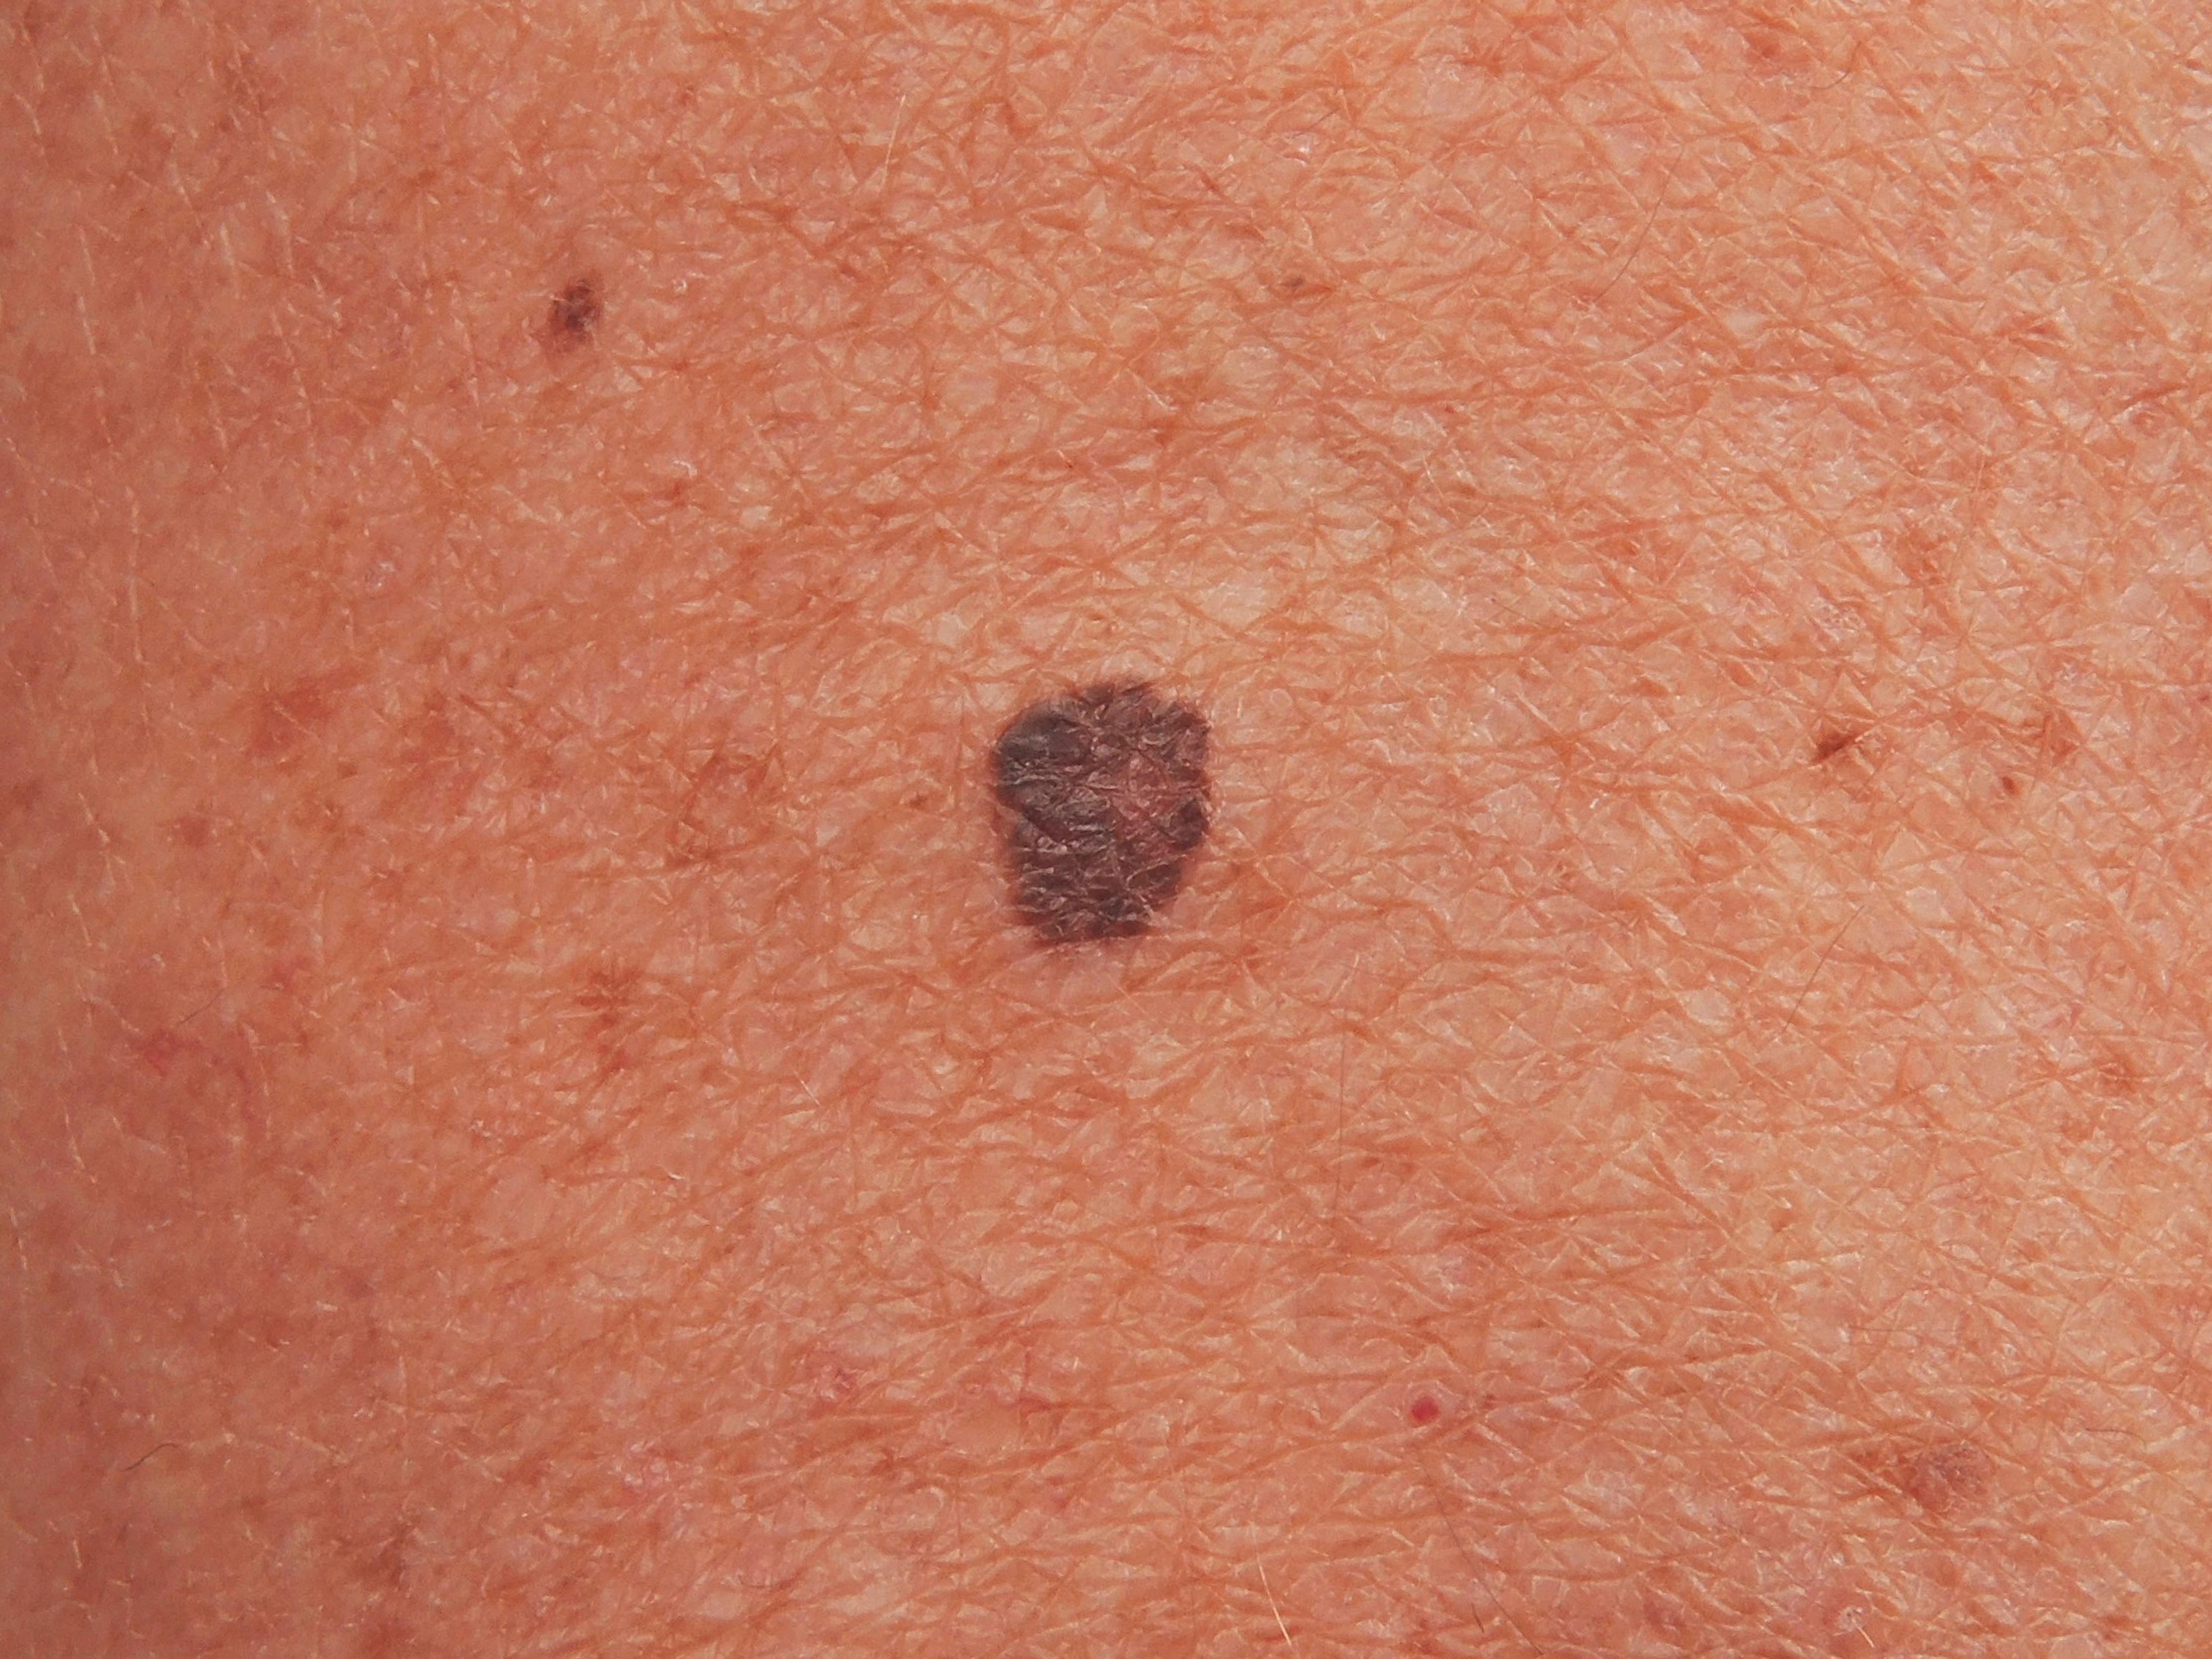melanoma: (557, 282, 1540, 1253)
